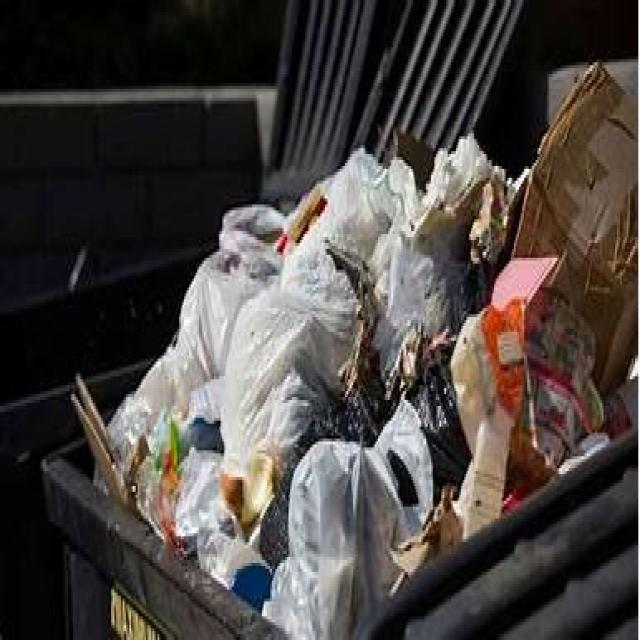Garbage: (71, 65, 639, 640)
Plastic: (369, 134, 504, 378), (451, 302, 526, 455), (310, 150, 397, 262)
Plastic_Bag: (109, 206, 284, 479), (264, 400, 432, 639), (221, 232, 356, 481), (359, 331, 470, 499)
Plastic_Container: (492, 259, 602, 468), (275, 188, 326, 255)
Plastic_bottle: (136, 447, 242, 541), (459, 402, 514, 538), (198, 529, 272, 610)
Rubber: (259, 389, 379, 571)
